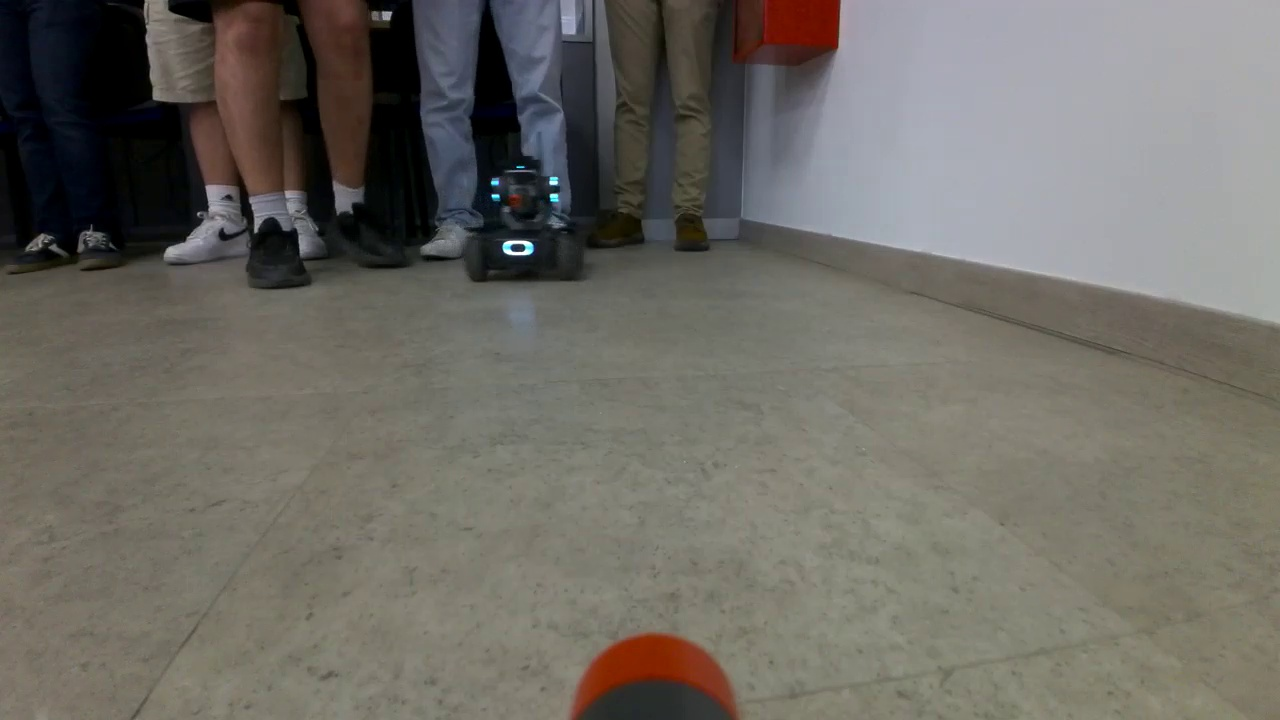robot: (470, 167, 587, 286)
